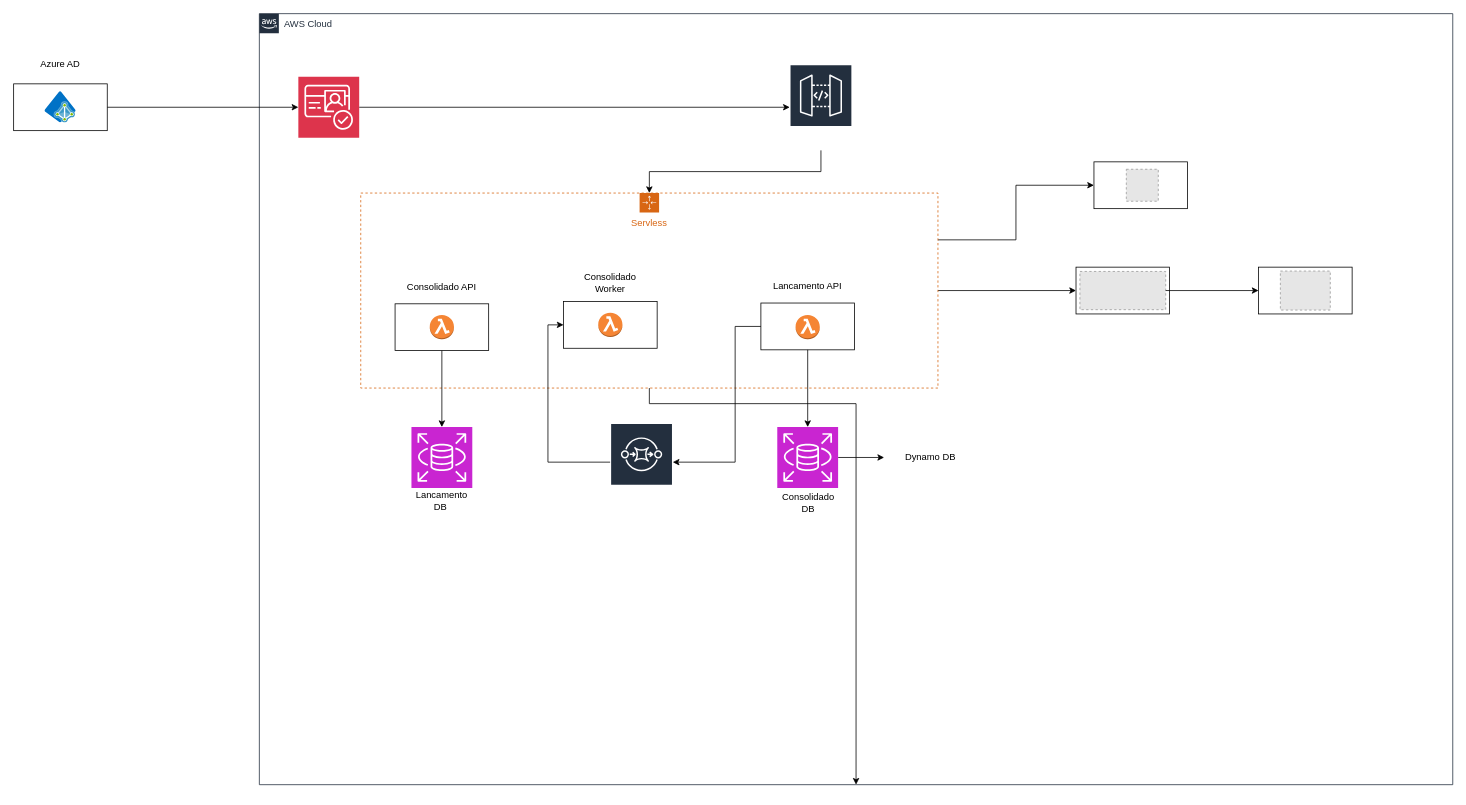
Some shapes in this 1466 by 805 pixel diagram are drawn without their labels. Grey dashed boxes stand in for pictures. Here are the shapes that lost their labels. From the top down, the centre of each, then its label:
At point 820,107: "Amazon API Gateway".
At point 641,461: "Amazon SQS".
